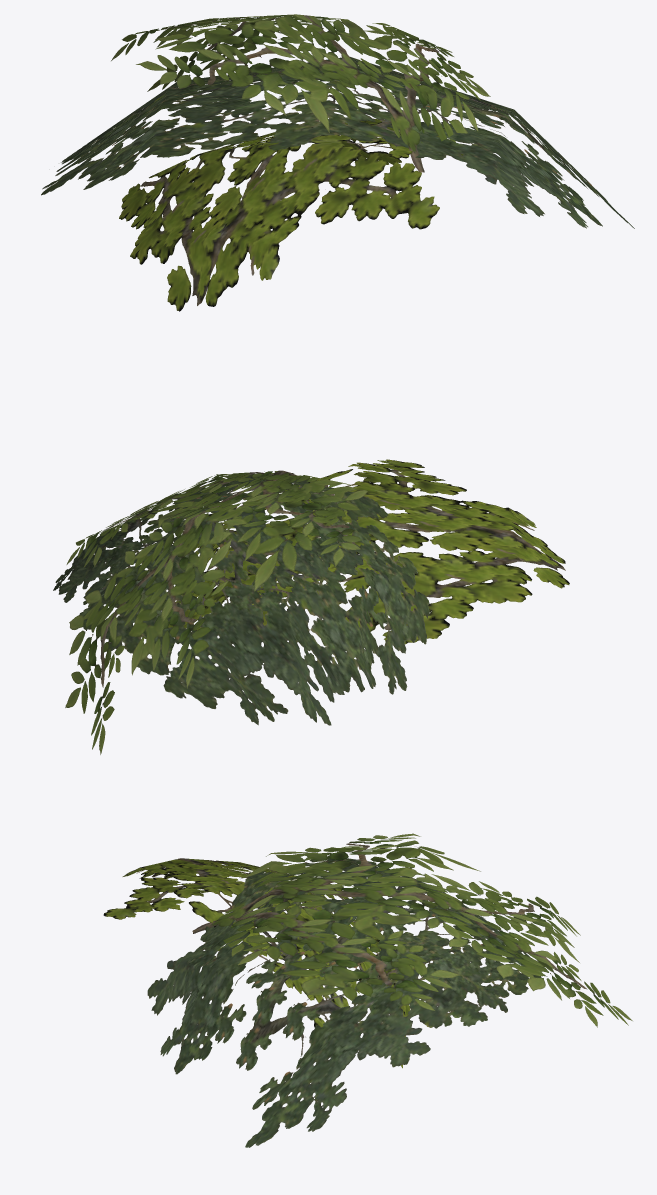
Rendered from MediumTank_Gear_Foliage_01.FBX.
3 renders of one model, top to bottom at view 1: azimuth 30°, elevation 25°; view 2: azimuth 150°, elevation 25°; view 3: azimuth 270°, elevation 25°, orthographic. The views are drawn at different scales.
Parts seen in each view (by area): view 1: MediumTank_Gear_Foliage_01; view 2: MediumTank_Gear_Foliage_01; view 3: MediumTank_Gear_Foliage_01.
Boxes of the visible parts, left/top/right/bottom form: MediumTank_Gear_Foliage_01: left=41, top=14, right=634, bottom=311; MediumTank_Gear_Foliage_01: left=53, top=459, right=569, bottom=754; MediumTank_Gear_Foliage_01: left=103, top=833, right=632, bottom=1147.
Bounding box in the file's own units: 2.06 × 0.7472 × 2.19.
